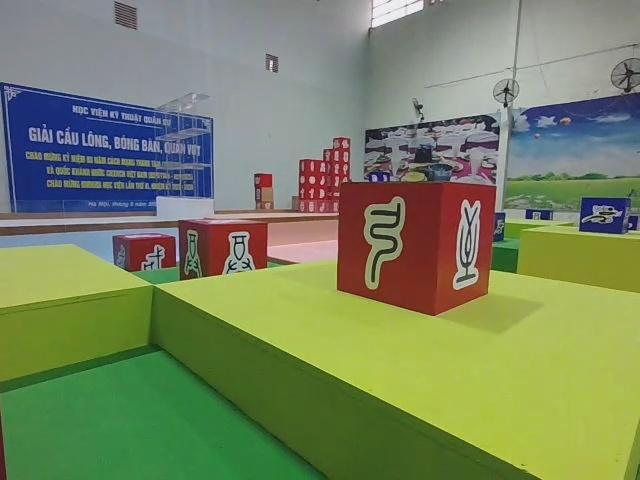R2 Fake: (335, 179, 494, 318)
R2 Real: (180, 217, 268, 287), (113, 233, 178, 275)
